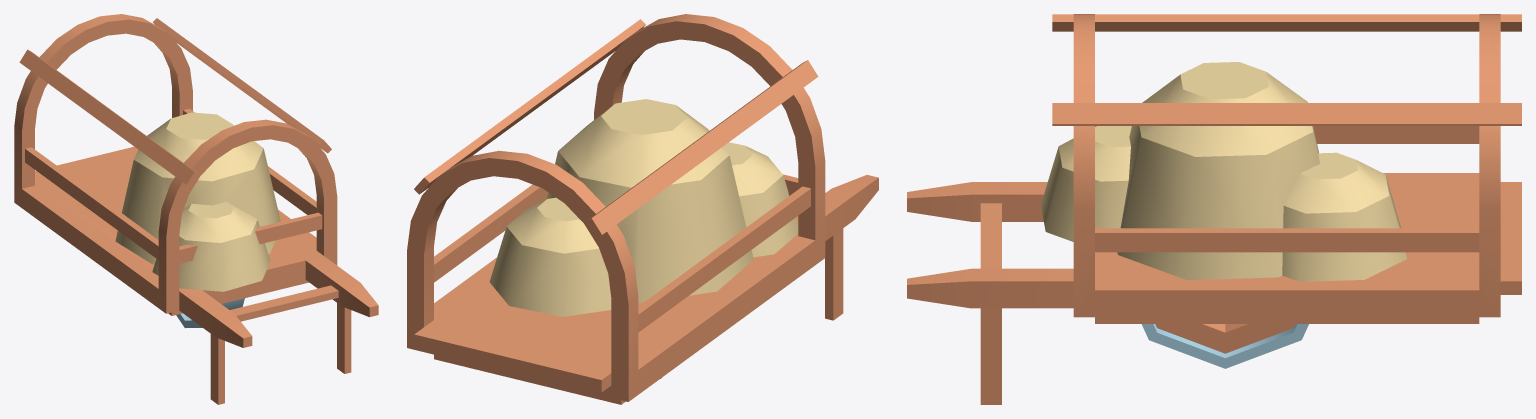
The model's file is cartHigh.glb.
The picture shows the model from 3 angles, left to right: view 1: azimuth 30°, elevation 25°; view 2: azimuth 150°, elevation 25°; view 3: azimuth 270°, elevation 25°; orthographic projection. The views are drawn at different scales.
Parts seen in each view (by area): view 1: cartHigh, cartHigh.001, cartHigh.002; view 2: cartHigh, cartHigh.001; view 3: cartHigh, cartHigh.001, cartHigh.002.
Part boxes in pixels (x1,y1,x2,y2): cartHigh: [14, 14, 378, 404]; cartHigh.001: [115, 112, 280, 291]; cartHigh.002: [176, 298, 244, 328]; cartHigh: [407, 14, 878, 404]; cartHigh.001: [489, 99, 798, 316]; cartHigh: [907, 14, 1521, 404]; cartHigh.001: [1041, 62, 1406, 281]; cartHigh.002: [1141, 324, 1308, 368].
Size of the model in its own units: 1.95 by 2.58 by 4.32.
